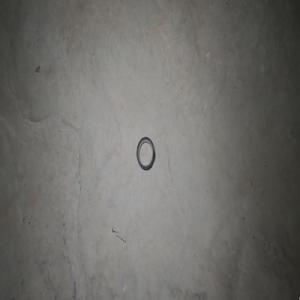Tape: (136, 136, 155, 170)
